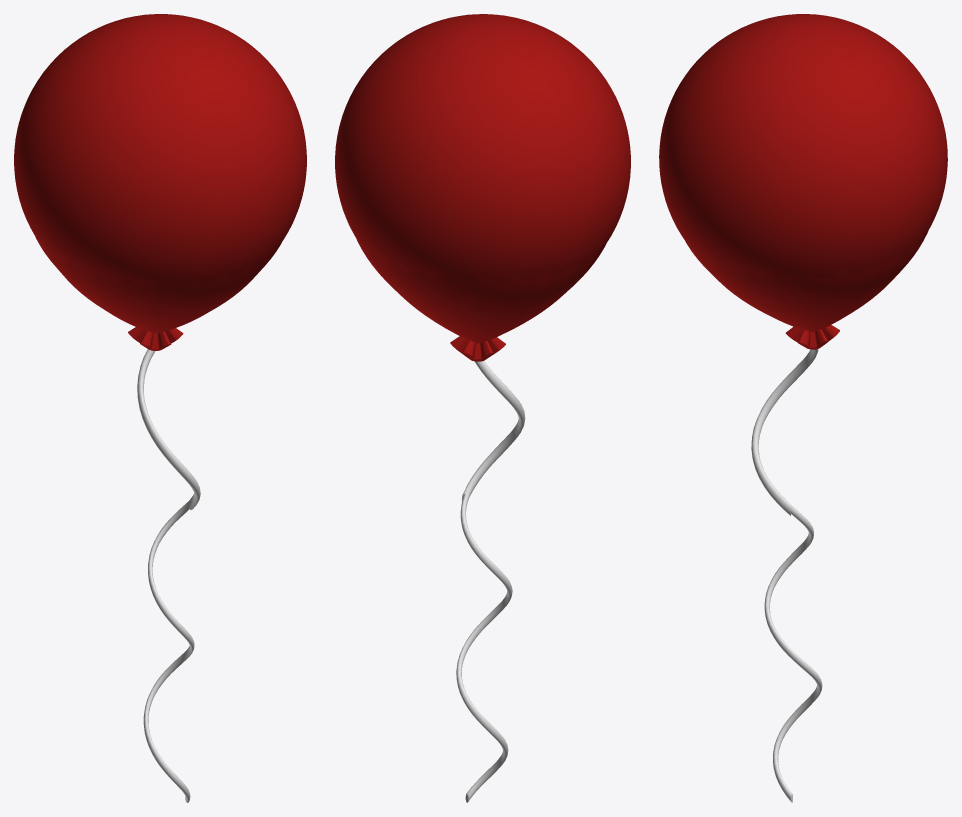
The model's file is balloon-1.glb.
3 views of the same model, side by side, from view 1: azimuth 30°, elevation 25°; view 2: azimuth 150°, elevation 25°; view 3: azimuth 270°, elevation 25° (orthographic). The views are drawn at different scales.
Parts seen in each view (by area): view 1: group_0_15277357_group_0_15277357Mat_0.001, group_0_6383466_group_0_6383466Mat_0.001; view 2: group_0_15277357_group_0_15277357Mat_0.001, group_0_6383466_group_0_6383466Mat_0.001; view 3: group_0_15277357_group_0_15277357Mat_0.001, group_0_6383466_group_0_6383466Mat_0.001.
Boxes of the visible parts, left/top/right/bottom form: group_0_15277357_group_0_15277357Mat_0.001: left=14, top=14, right=306, bottom=350; group_0_6383466_group_0_6383466Mat_0.001: left=137, top=349, right=200, bottom=802; group_0_15277357_group_0_15277357Mat_0.001: left=335, top=14, right=630, bottom=361; group_0_6383466_group_0_6383466Mat_0.001: left=456, top=361, right=525, bottom=802; group_0_15277357_group_0_15277357Mat_0.001: left=659, top=14, right=947, bottom=349; group_0_6383466_group_0_6383466Mat_0.001: left=751, top=349, right=822, bottom=802.
Bounding box in the file's own units: 0.6252 × 1.83 × 0.625.
